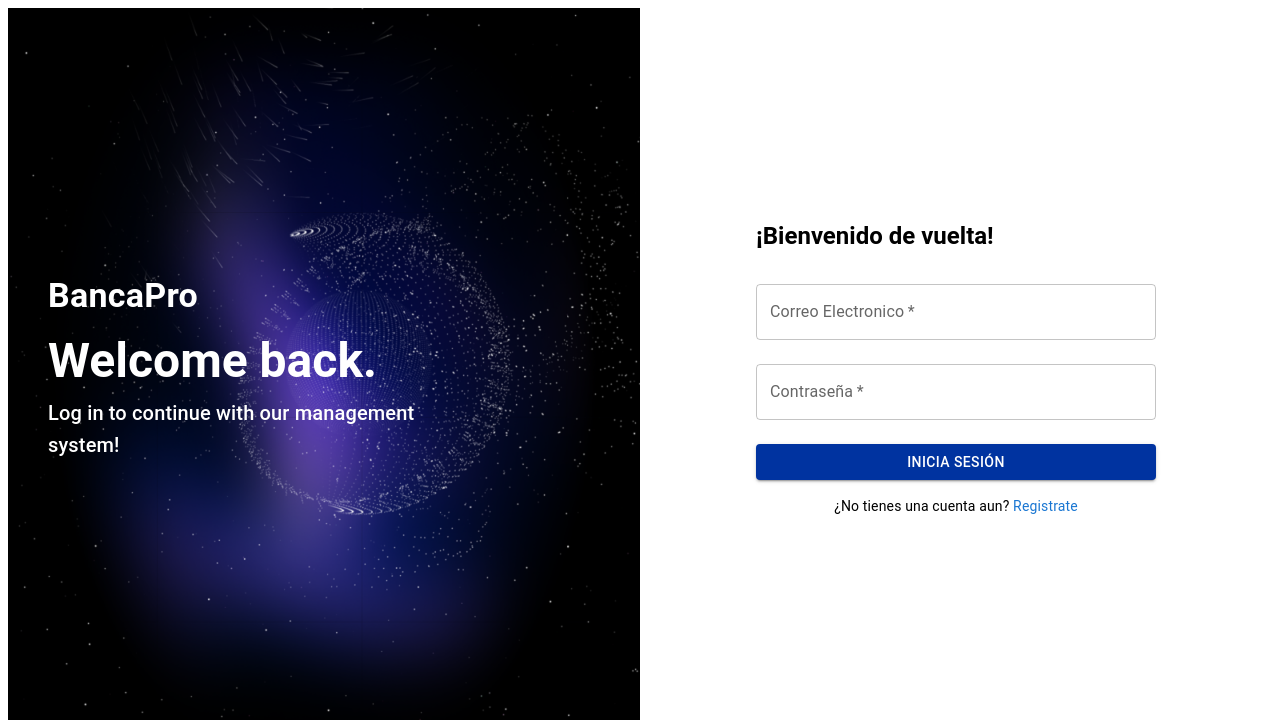
Test case: Página de Login › debería mostrar un mensaje de error si las credenciales son incorrectas
Type "fakeuser@example.com" into the field labelled "Correo Electronico *" at (956, 312), box [756,284,1156,340]
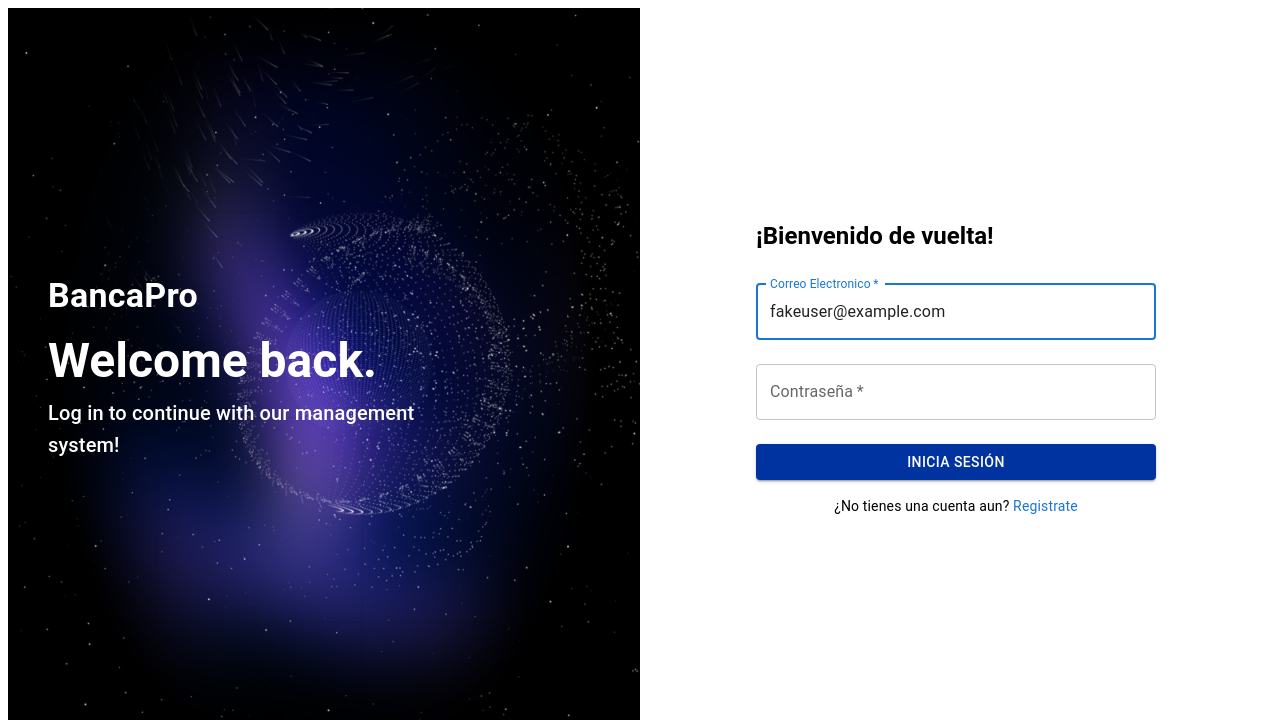
Type "wrongpassword" into the password field labelled "Contraseña *" at (956, 392), box [756,364,1156,420]
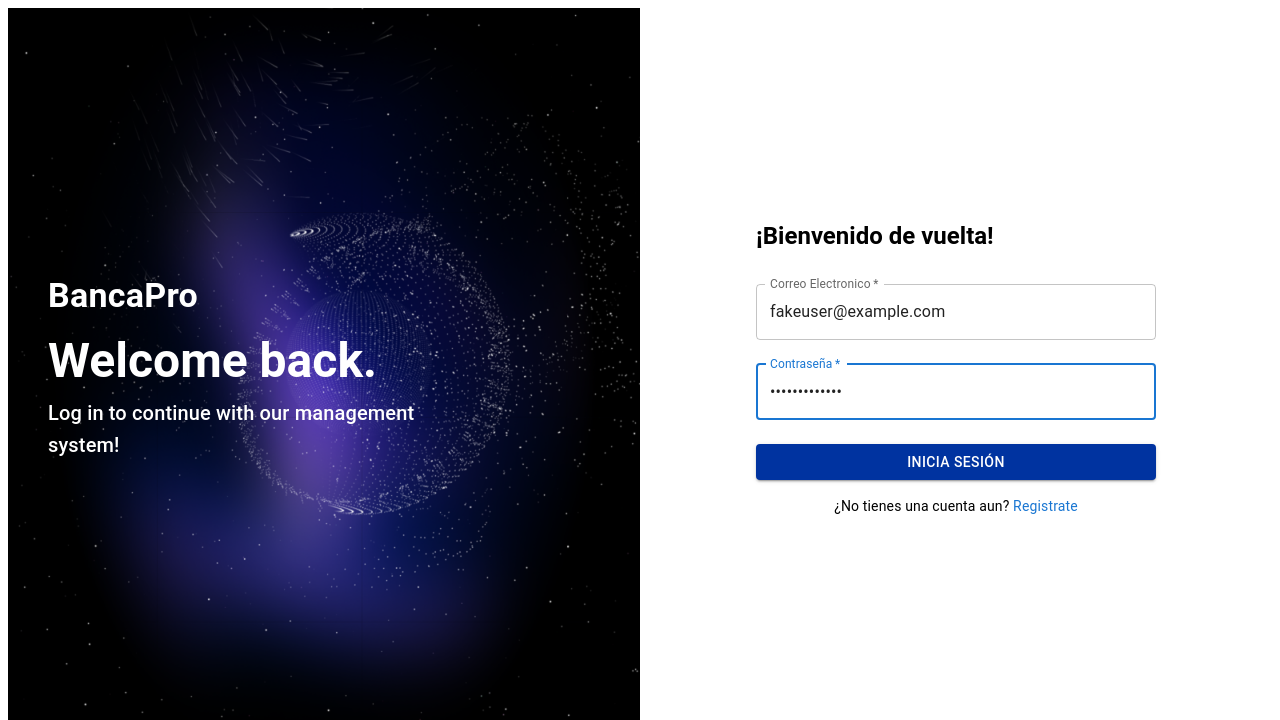
Click the submit button at (956, 463), box [756,444,1156,481]
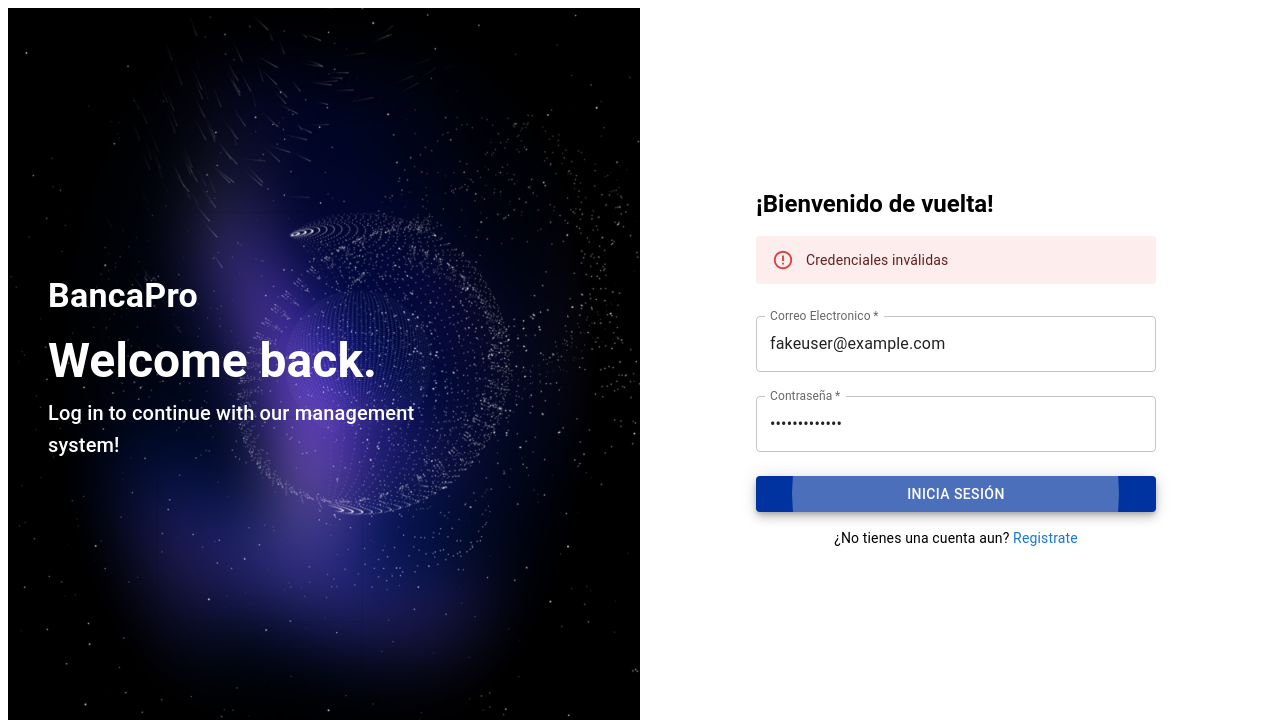
expect the text "Credenciales inválidas" is shown: met, box [806,252,948,268]
